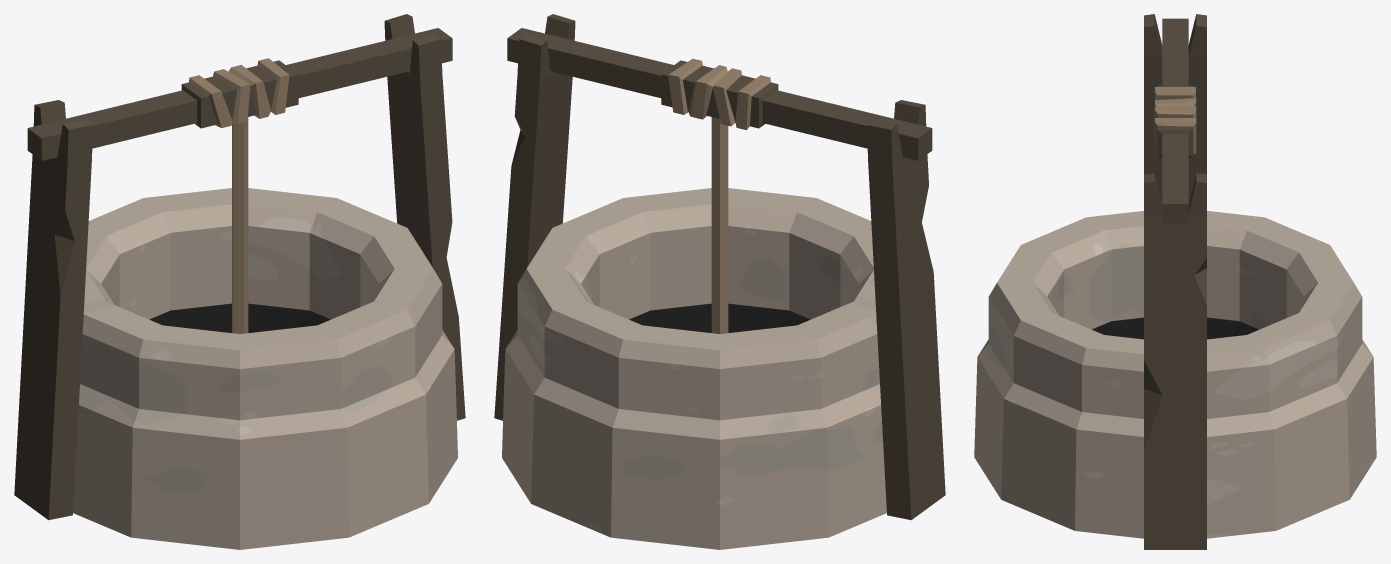
The model's file is SM_Bld_Village_Well_01.glb.
The picture shows the model from 3 angles, left to right: view 1: azimuth 30°, elevation 25°; view 2: azimuth 150°, elevation 25°; view 3: azimuth 270°, elevation 25°; orthographic projection. The views are drawn at different scales.
Parts seen in each view (by area): view 1: SM_Bld_Village_Well_01; view 2: SM_Bld_Village_Well_01; view 3: SM_Bld_Village_Well_01.
Part boxes in pixels (bbox=[...]): SM_Bld_Village_Well_01: bbox=[14, 14, 465, 549]; SM_Bld_Village_Well_01: bbox=[494, 14, 945, 549]; SM_Bld_Village_Well_01: bbox=[974, 14, 1376, 549].
Size of the model in its own units: 2.65 by 2.36 by 2.4.
Materials: 1 (1 with a texture image).
